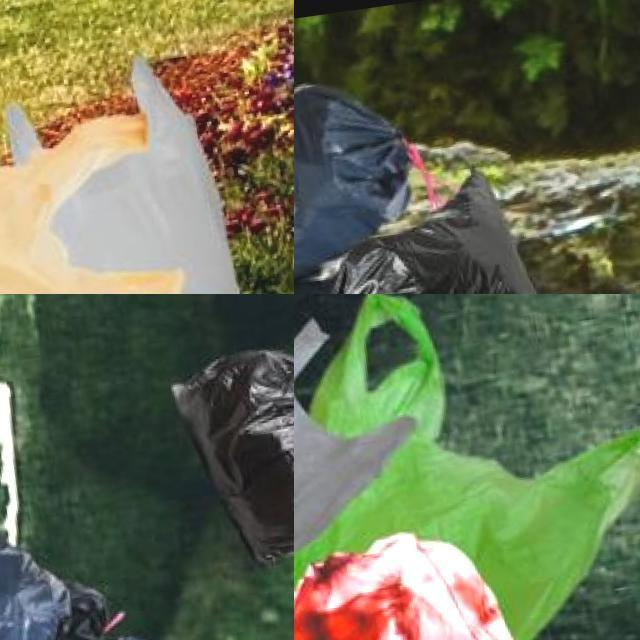waste: (294, 294, 640, 640), (0, 52, 253, 294), (294, 310, 429, 573), (313, 161, 568, 294), (155, 331, 294, 571), (294, 65, 428, 290), (0, 495, 87, 640)
